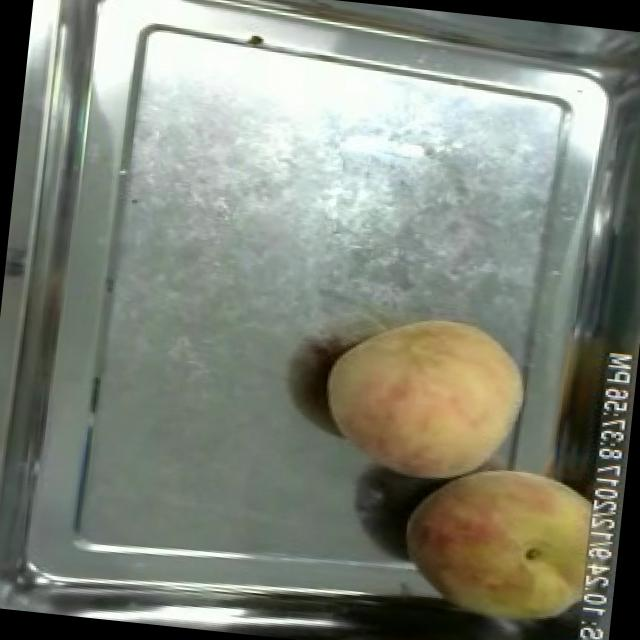Fruit: (308, 297, 540, 500), (385, 447, 618, 640)
